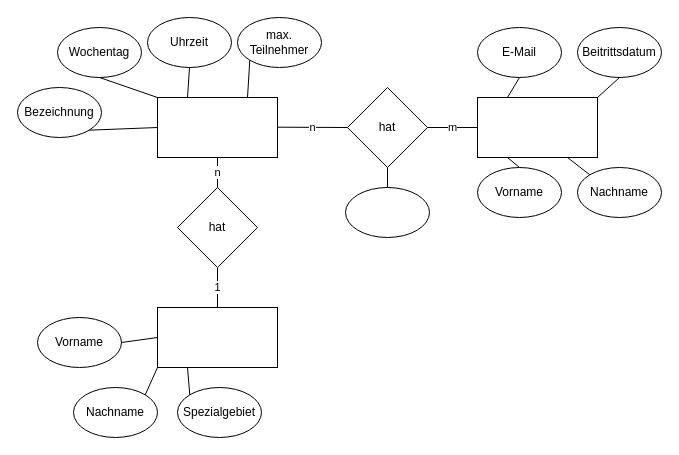
Image size: 679x455. Some labels were removed from this diagram. Each missing label, with the box of its shape:
Anmeldedatum: (344, 186, 430, 238)
Kurse: (156, 96, 278, 158)
Teilnehmer: (476, 96, 598, 158)
Trainer: (156, 306, 278, 368)
